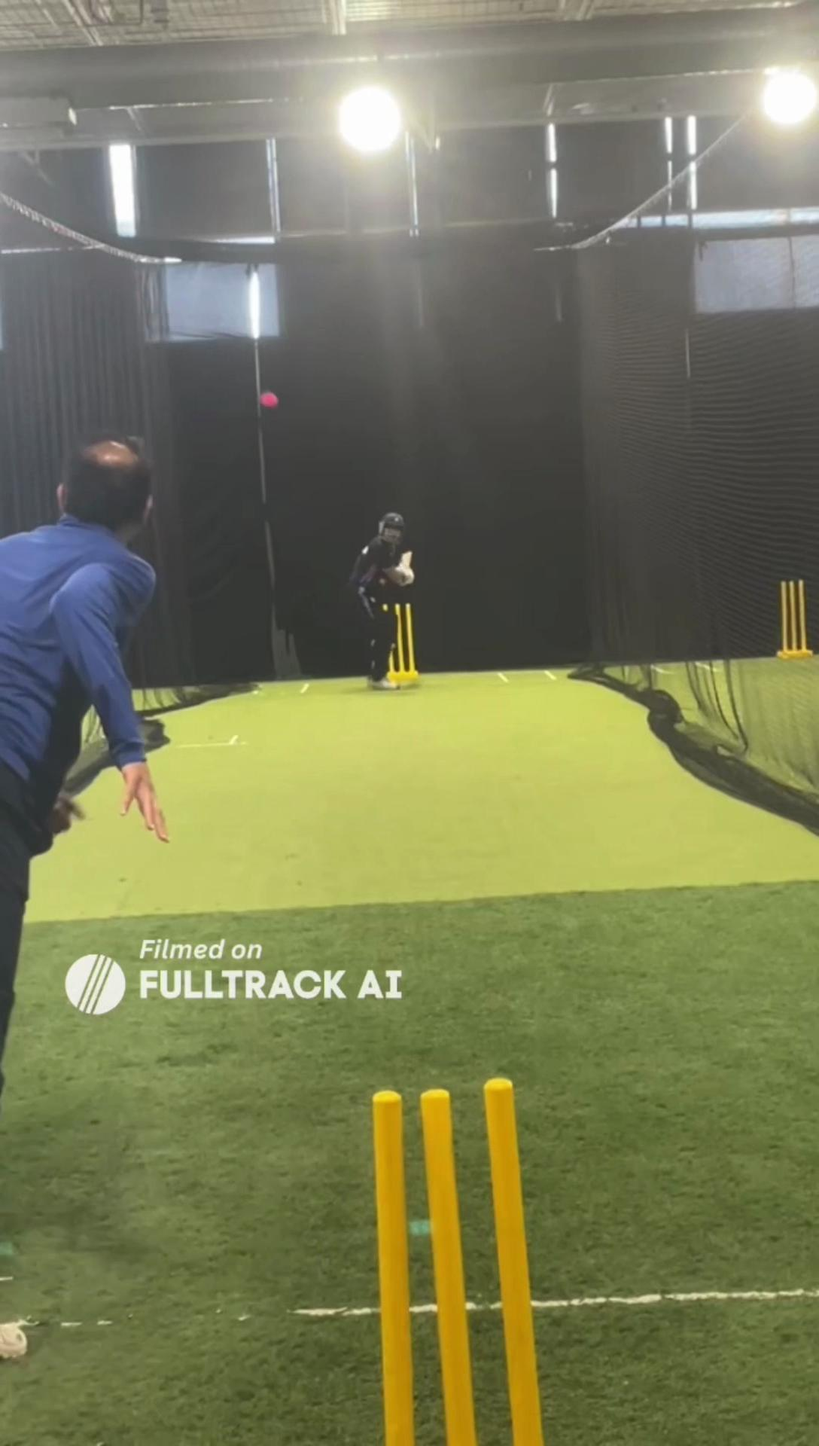ball: (258, 384, 282, 418)
